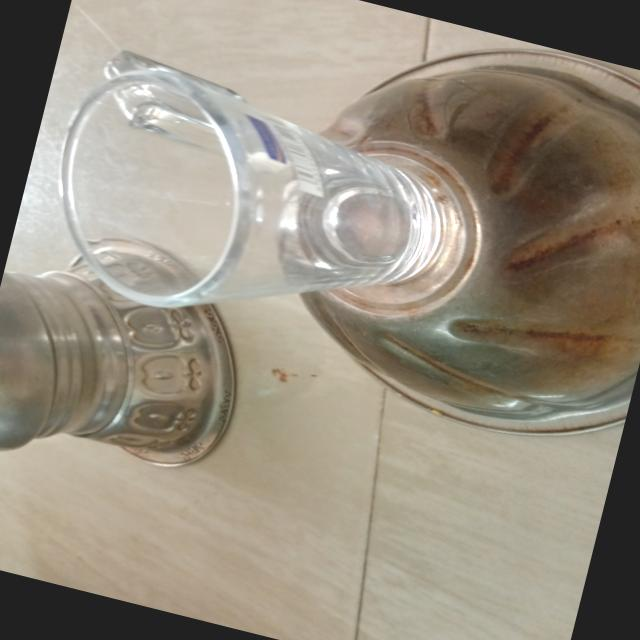glass-VX4N: (25, 39, 456, 368)
